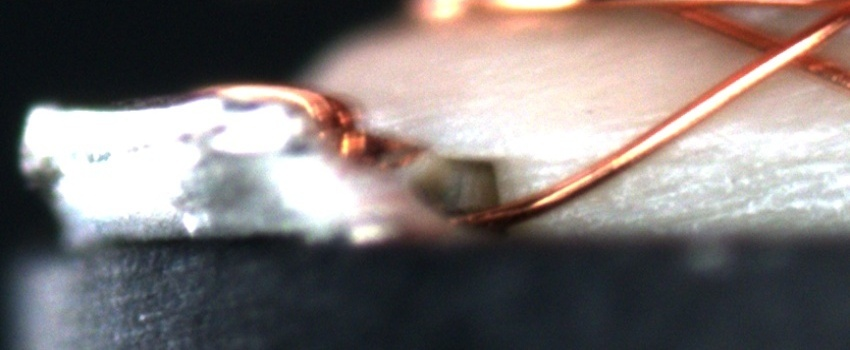CL: (737, 32, 814, 80)
DL: (563, 134, 849, 190)
TE: (194, 78, 378, 153)
